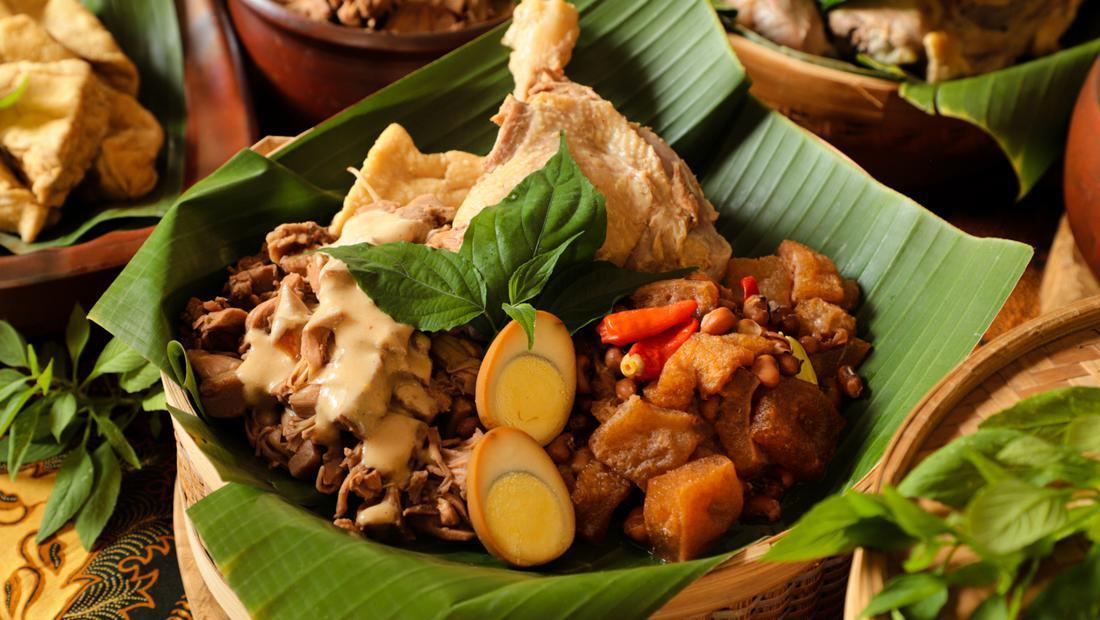gudeg: (187, 1, 872, 569)
